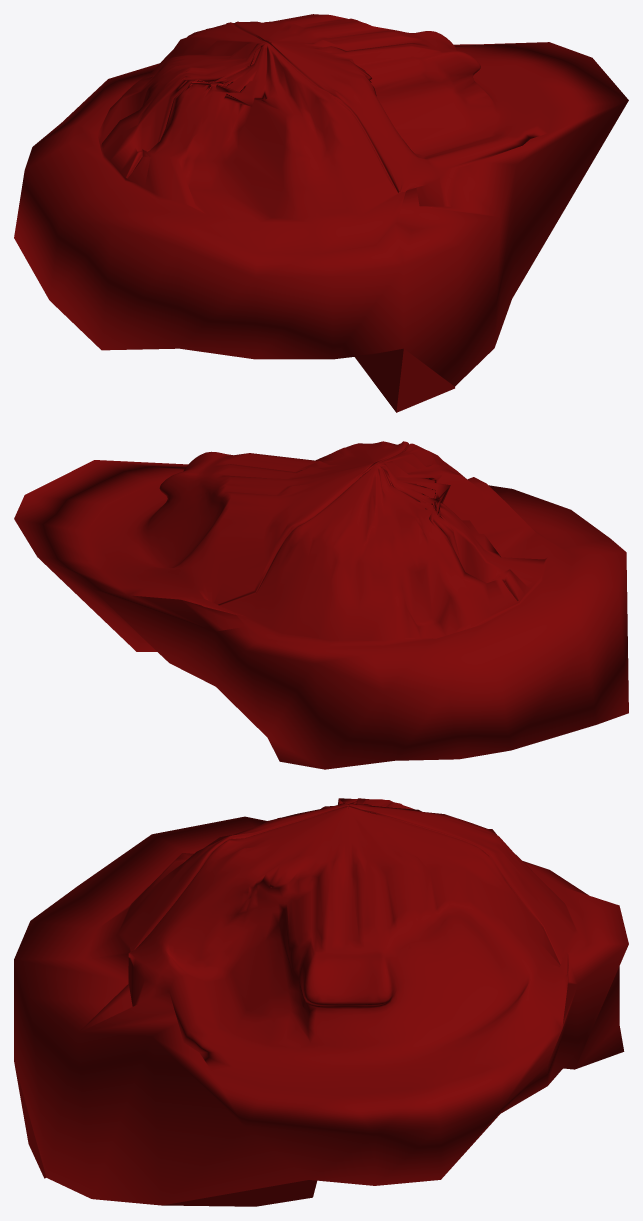
File: Bad Heart Scarab.fbx
3 views of the same model, one above another, from view 1: azimuth 30°, elevation 25°; view 2: azimuth 150°, elevation 25°; view 3: azimuth 270°, elevation 25° (orthographic). The views are drawn at different scales.
Parts seen in each view (by area): view 1: pCylinder1; view 2: pCylinder1; view 3: pCylinder1.
Boxes of the visible parts, box(x1,y1,x2,y2) form: pCylinder1: box(14, 14, 628, 412); pCylinder1: box(14, 441, 628, 769); pCylinder1: box(14, 798, 628, 1206).
Size of the model in its own units: 5.52 by 2.62 by 4.31.
1 material, 1 textured.
